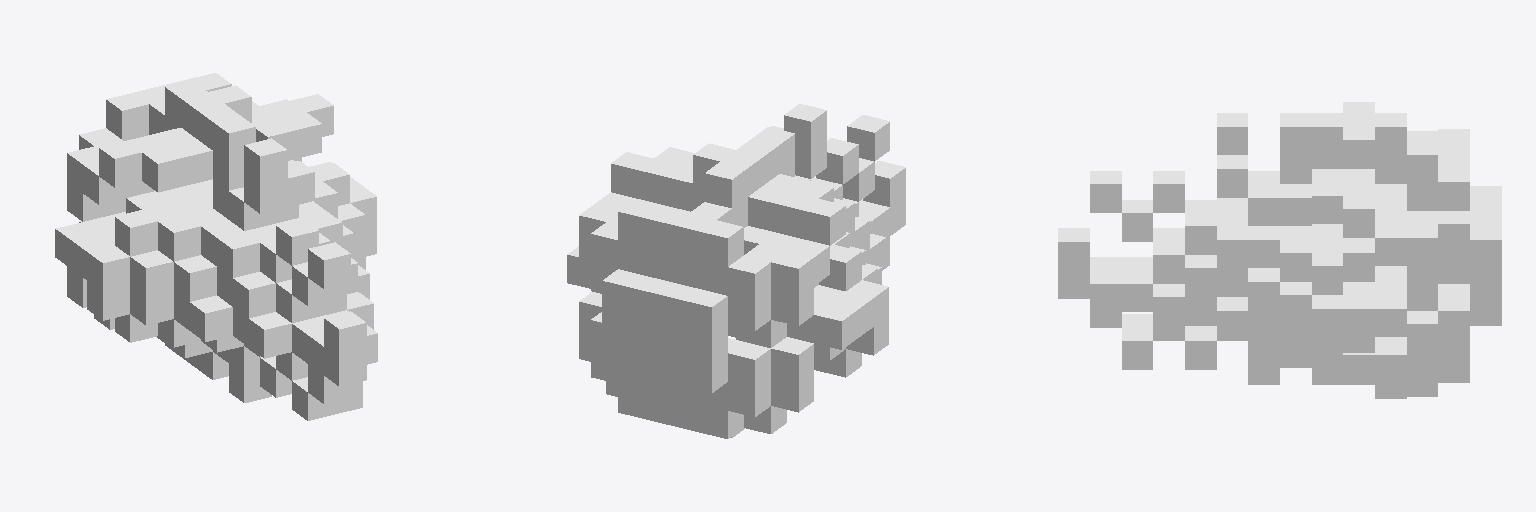
Rendered from fireball.obj.
3 views of the same model, side by side, from view 1: azimuth 30°, elevation 25°; view 2: azimuth 150°, elevation 25°; view 3: azimuth 270°, elevation 25° (orthographic).
Parts seen in each view (by area): view 1: fireball-0; view 2: fireball-0; view 3: fireball-0.
Part boxes in pixels (x1,y1,x2,y2): fireball-0: (55, 73, 377, 420); fireball-0: (567, 104, 905, 438); fireball-0: (1058, 102, 1501, 398).
Bounding box in the file's own units: 5 × 4.5 × 7.